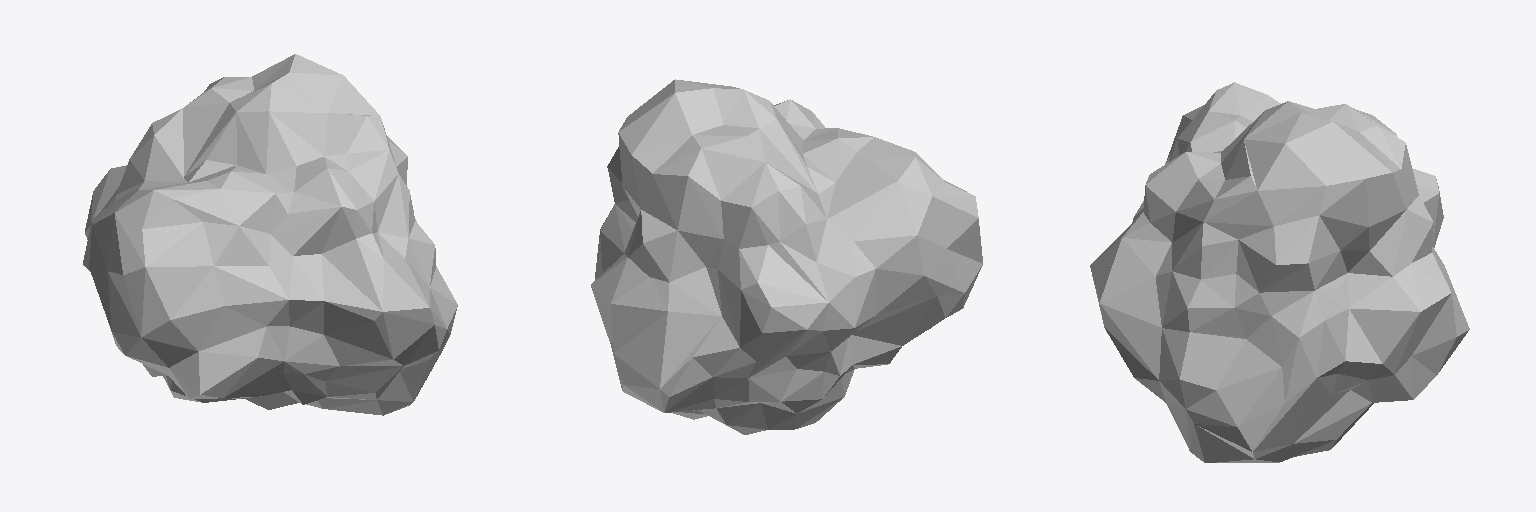
File: asteroid1.obj
3 views of the same model, side by side, from view 1: azimuth 30°, elevation 25°; view 2: azimuth 150°, elevation 25°; view 3: azimuth 270°, elevation 25° (orthographic).
Visible parts, largest first — view 1: Cube_Cube.002; view 2: Cube_Cube.002; view 3: Cube_Cube.002.
Part boxes in pixels (left/top/right/bottom): Cube_Cube.002: left=83, top=54, right=457, bottom=415; Cube_Cube.002: left=591, top=79, right=982, bottom=434; Cube_Cube.002: left=1090, top=82, right=1469, bottom=462.
Size of the model in its own units: 1.89 by 1.75 by 1.81.